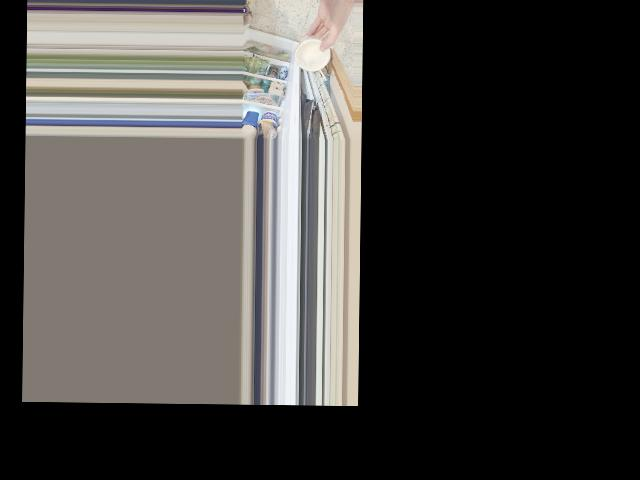cotage: (293, 38, 328, 76)
